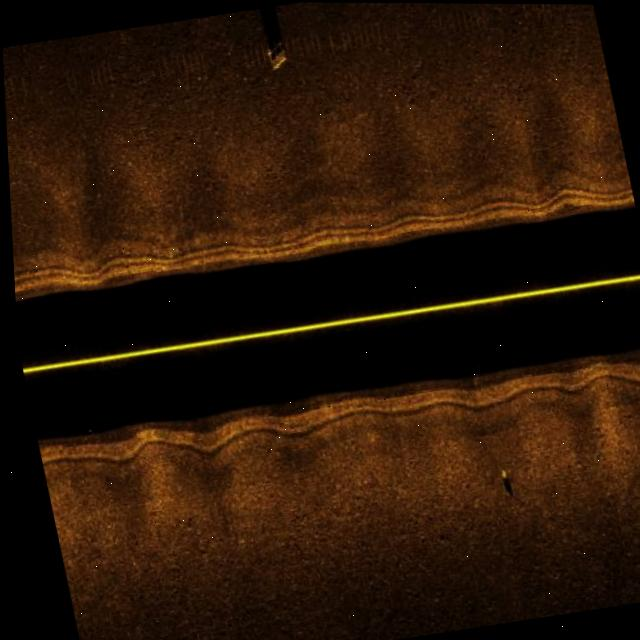mine: (489, 461, 514, 500)
other: (255, 5, 292, 72)
